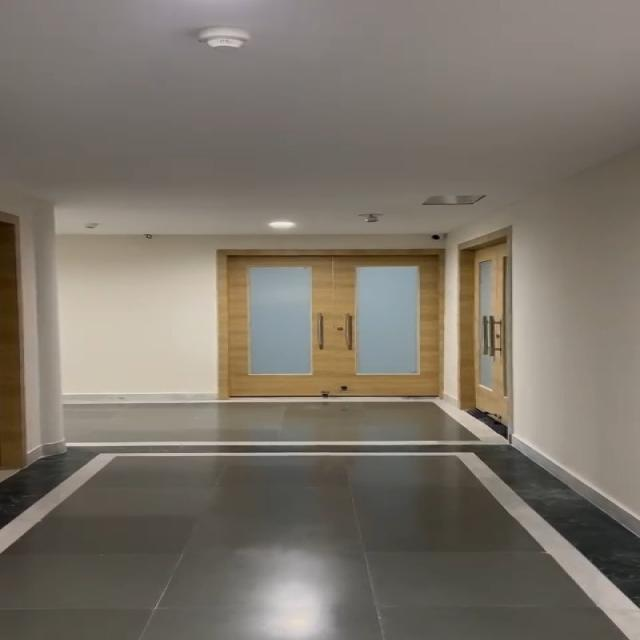door: (214, 238, 449, 400), (454, 239, 509, 426)
floor: (0, 503, 633, 640), (80, 402, 475, 507)
wall: (510, 200, 640, 476), (27, 207, 200, 397)
